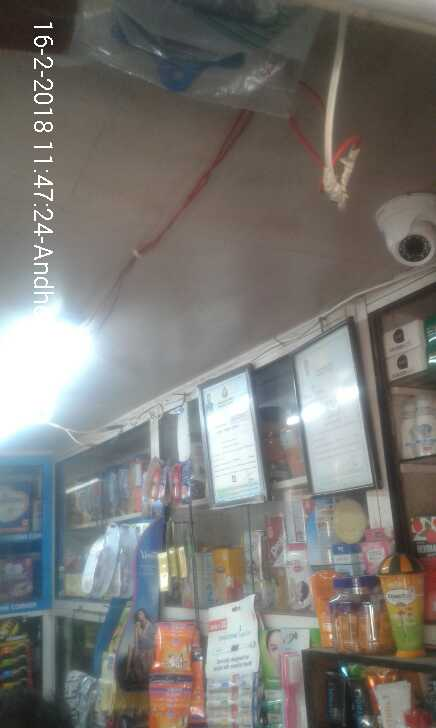reject: (165, 269, 294, 432)
